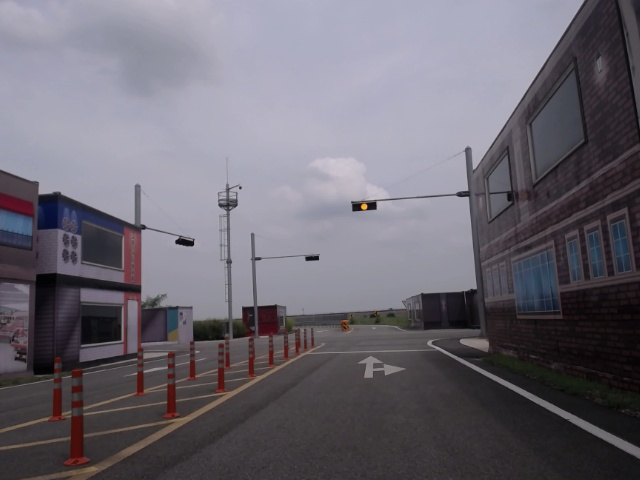orange_3: (352, 201, 377, 211)
